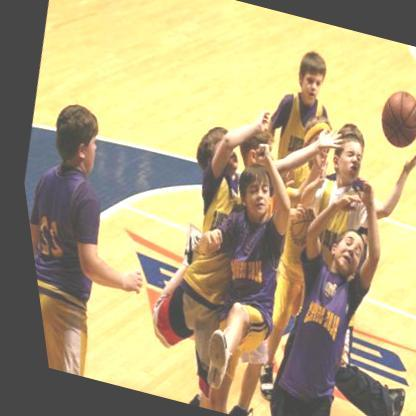basketball: (367, 86, 416, 153)
